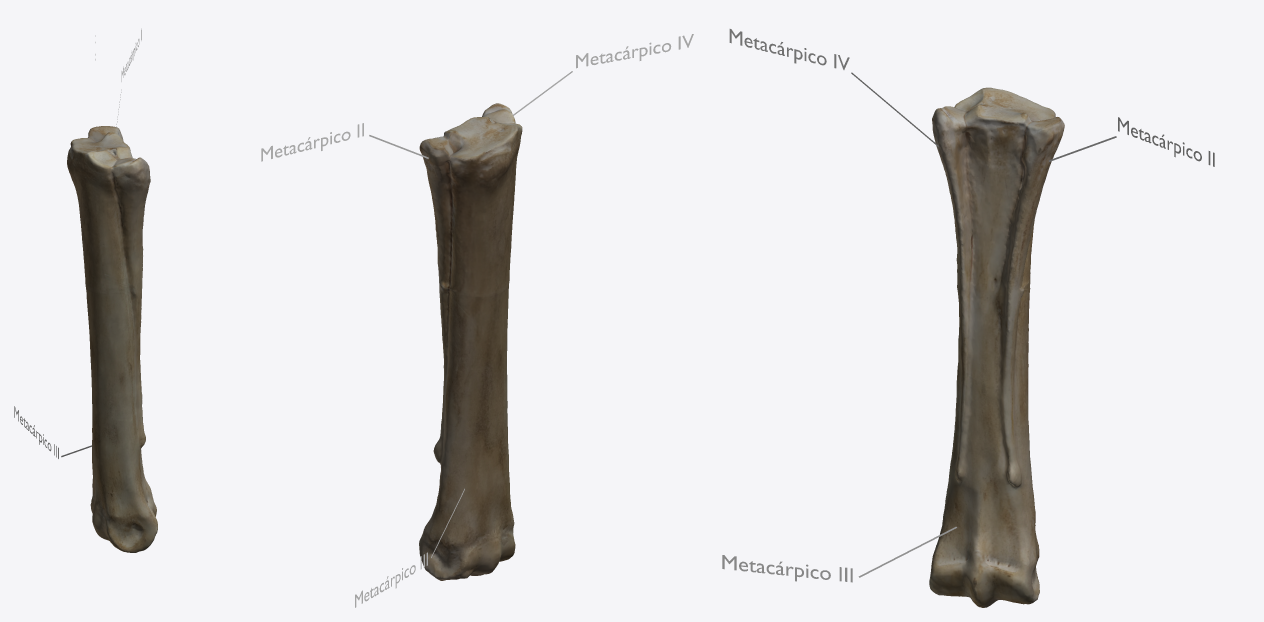
The model's file is Metacarpo.glb.
The picture shows the model from 3 angles, left to right: view 1: azimuth 30°, elevation 25°; view 2: azimuth 150°, elevation 25°; view 3: azimuth 270°, elevation 25°; orthographic projection. The views are drawn at different scales.
Parts seen in each view (by area): view 1: 3DModel.004; view 2: 3DModel.004, Texto.033; view 3: 3DModel.004, Texto.056, Texto.023.
Boxes of the visible parts, x1,y1,x2,y2 form: 3DModel.004: [67, 126, 157, 552]; 3DModel.004: [419, 103, 522, 580]; Texto.033: [576, 34, 693, 68]; 3DModel.004: [929, 87, 1064, 607]; Texto.056: [722, 555, 852, 582]; Texto.023: [729, 29, 849, 69].
Size of the model in its own units: 1.43 by 2.78 by 2.5.
1 material, 1 textured.
